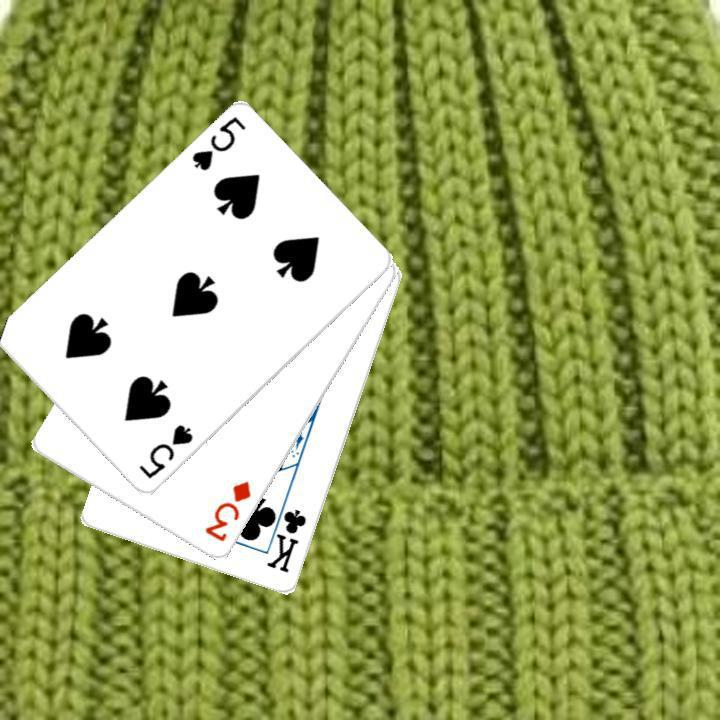3: (200, 476, 254, 545)
5: (134, 420, 196, 481), (187, 113, 248, 174)
K: (260, 494, 309, 575)
